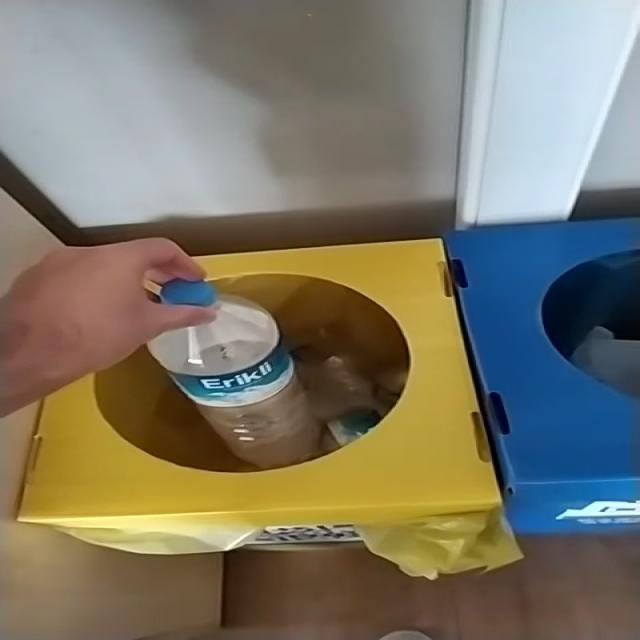plastic: (148, 279, 321, 469)
